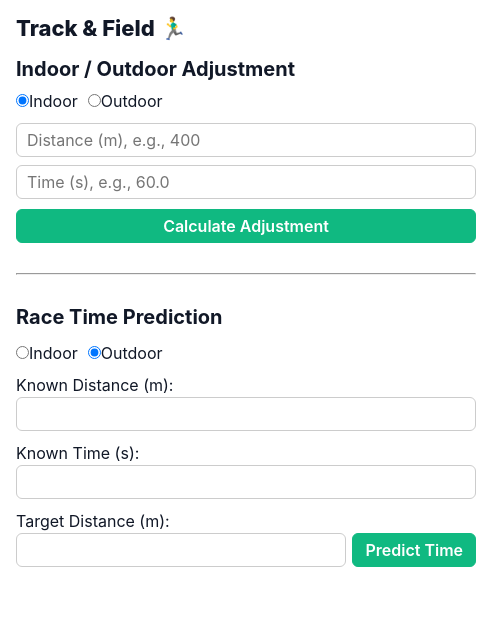
Test case: 🏃‍♀️ TrackField Component › shows error if distance or time missing
Click the button "Calculate Adjustment": [246, 226] box [16,209,476,243]
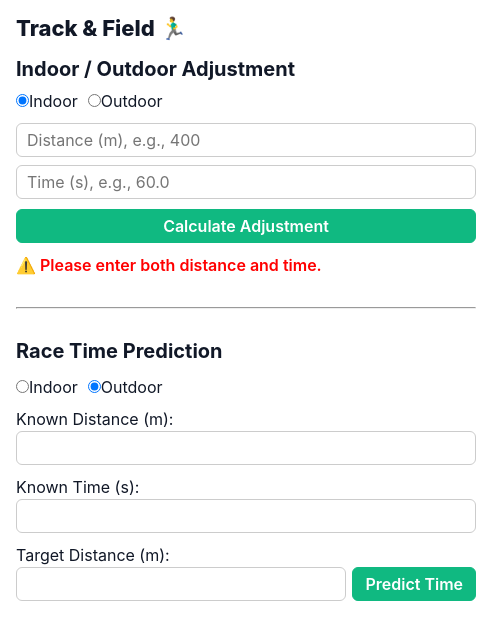
expect the text "⚠️ Please enter both distance and time." is shown: met, box [16,255,322,275]
